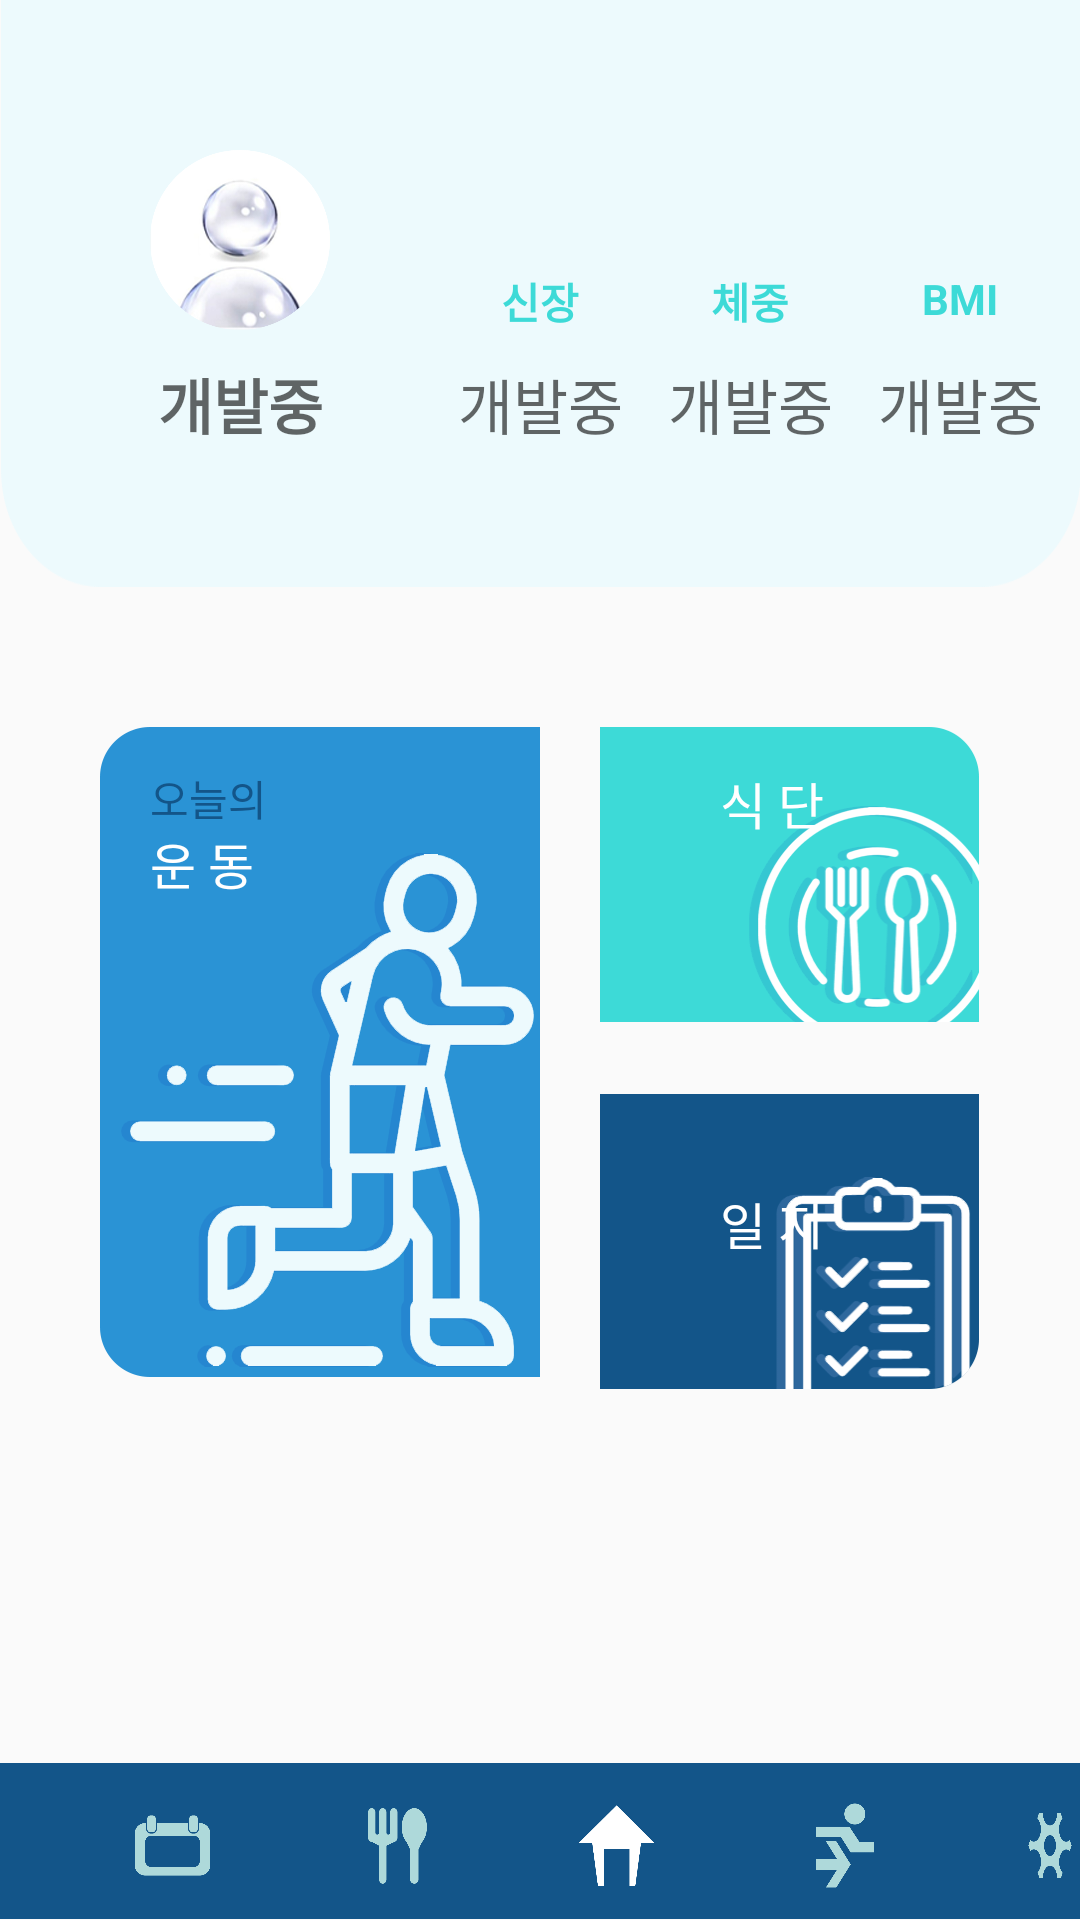

Icons on this 1080x1920 Android screen, each with the point to tap as [x,y]:
iconcalendar: [172,1845]
iconfood: [397,1846]
iconhealth: [845,1845]
iconhome: [616,1845]
iconprofile: [240,239]
